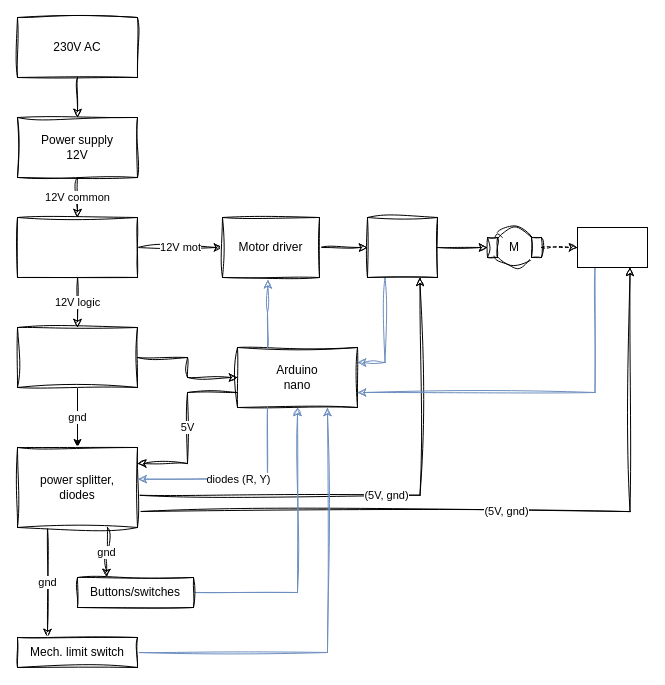
This 665x685 diagram has some shape labels left out. Each missing label, with the box of its shape:
current sensor: (366, 216, 438, 278)
enkoder: (576, 226, 648, 268)
Power splitter: (16, 216, 138, 278)
Step down buck 12V -> 6.5 V: (16, 326, 138, 388)
